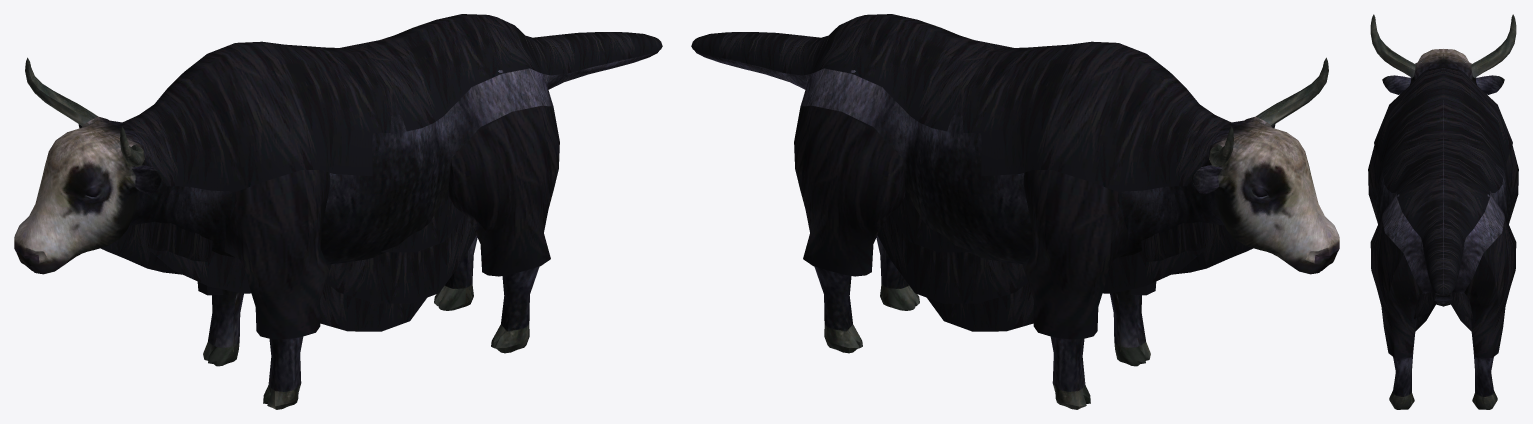
File: wild_yak.glb
3 renders of one model, left to right at view 1: azimuth 30°, elevation 25°; view 2: azimuth 150°, elevation 25°; view 3: azimuth 270°, elevation 25°, orthographic. The views are drawn at different scales.
Visible parts, largest first — view 1: Object_4, Object_3, Object_2, Object_5; view 2: Object_4, Object_3, Object_2, Object_5; view 3: Object_4, Object_2, Object_3, Object_5.
Boxes of the visible parts, <box> form: Object_4: <box>100,14,662,331</box>; Object_3: <box>14,50,659,391</box>; Object_2: <box>197,105,559,339</box>; Object_5: <box>15,57,529,409</box>; Object_4: <box>691,14,1253,331</box>; Object_3: <box>694,50,1339,391</box>; Object_2: <box>794,105,1156,339</box>; Object_5: <box>824,57,1338,409</box>; Object_4: <box>1374,66,1512,331</box>; Object_2: <box>1368,145,1518,358</box>; Object_3: <box>1375,49,1511,396</box>; Object_5: <box>1370,14,1516,409</box>.
Bounding box in the file's own units: 2.5 × 1.26 × 0.6915.
Materials: 4 (4 with a texture image).
